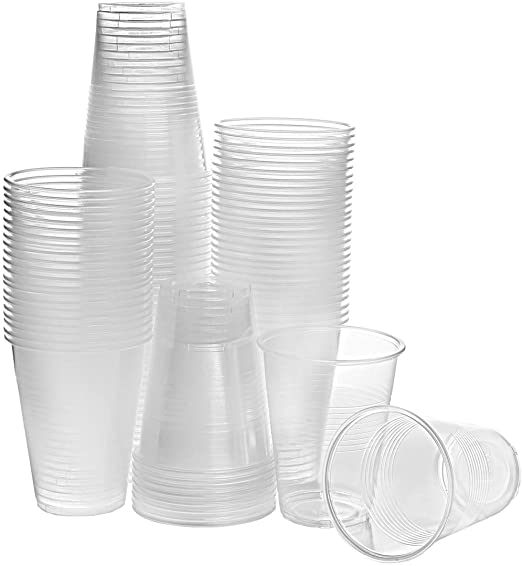plastic_glass: (318, 402, 522, 566)
